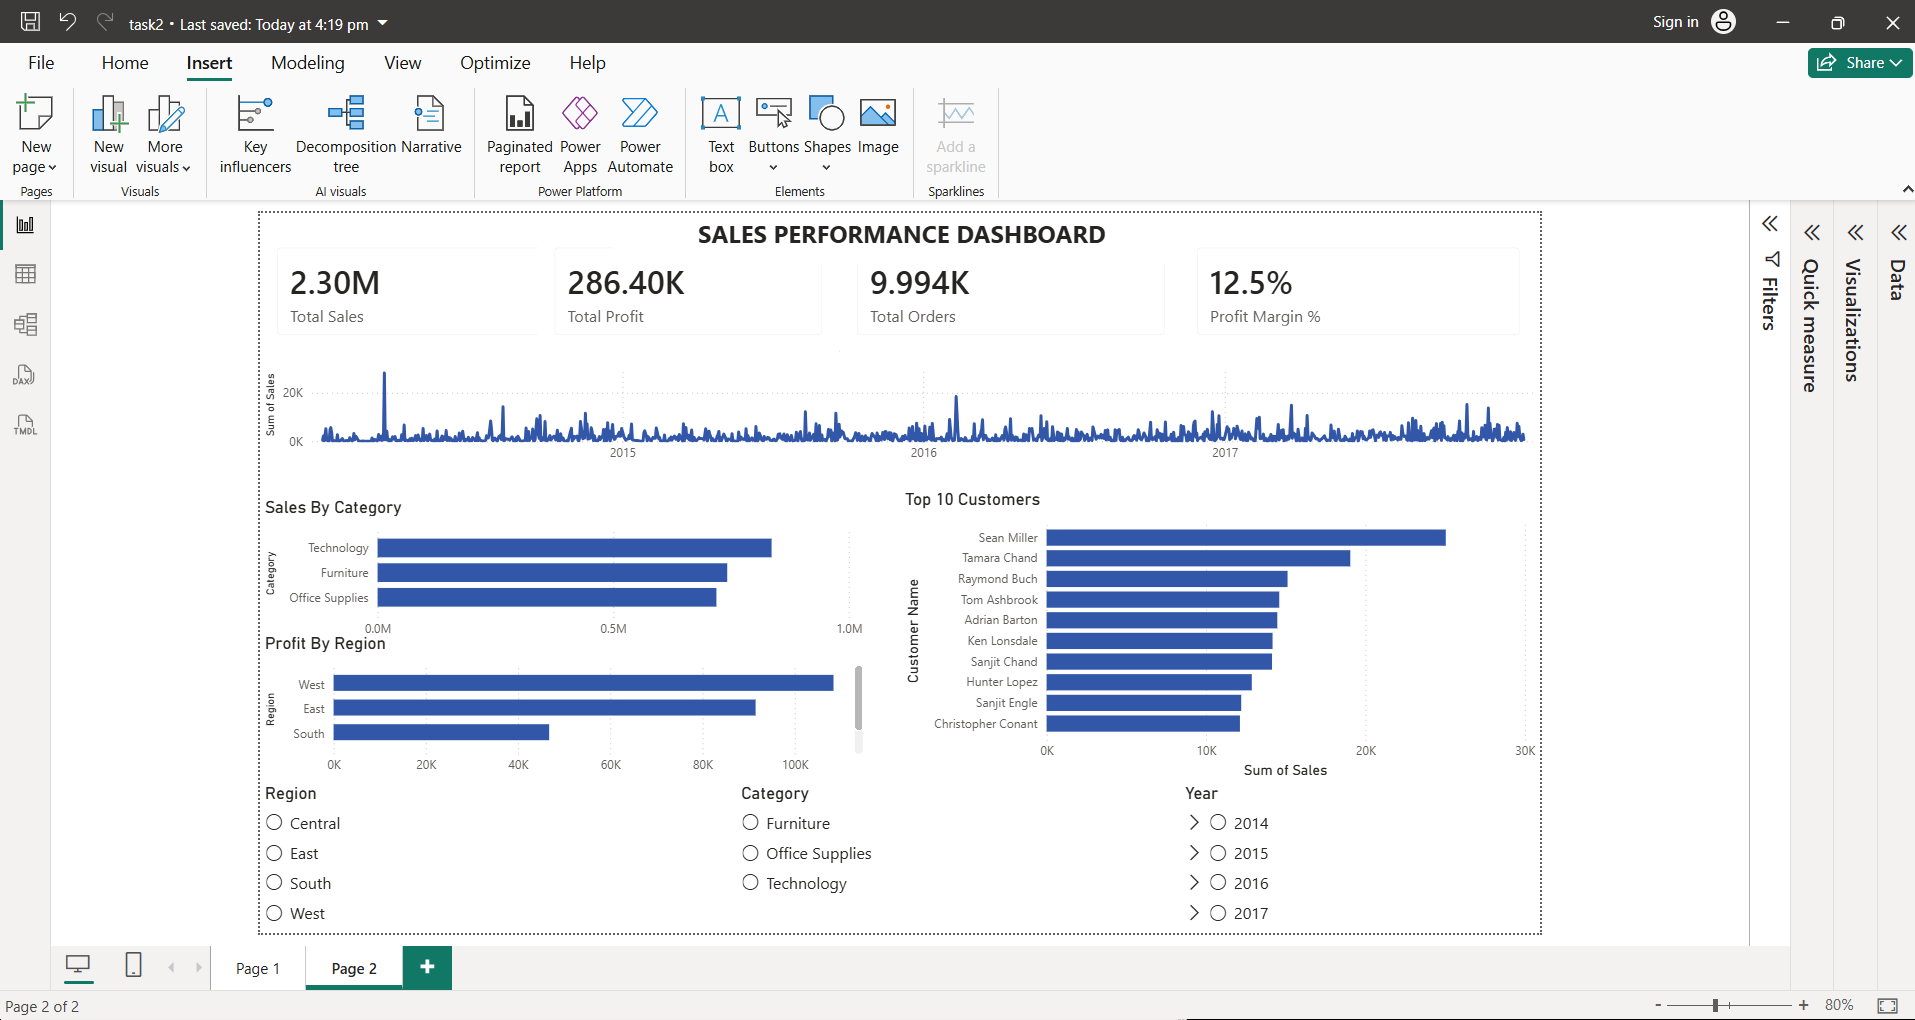

Layout of this report page (visuals, bound fields, positions):
{"tool":"powerbi","page":{"name":"Page 2","canvas":[1280,720],"ordinal":1},"visuals":[{"type":"lineChart","title":"Sales Trend Over Time","fields":{"Y":["Sum(Sample - Superstore.Sales)"],"Category":["Sample - Superstore.Order Date Hierarchy.Order Date"]},"box":[0,122,1282,136],"z":1},{"type":"clusteredBarChart","title":"Sales By Category","fields":{"Category":["Sample - Superstore.Category"],"Y":["Sum(Sample - Superstore.Sales)"]},"box":[0,284,608,150],"z":2},{"type":"clusteredBarChart","title":"Profit By Region","fields":{"Category":["Sample - Superstore.Region"],"Y":["Sum(Sample - Superstore.Profit)"]},"box":[0,420,608,150],"z":3},{"type":"clusteredBarChart","title":"Top 10 Customers","fields":{"Category":["Sample - Superstore.Customer Name"],"Y":["Sum(Sample - Superstore.Sales)"]},"box":[640,276,640,294],"z":4},{"type":"listSlicer","fields":{"Values":["Sample - Superstore.Region"]},"box":[0,570,278,150],"z":5},{"type":"listSlicer","fields":{"Values":["Sample - Superstore.Category"]},"box":[476.2,570,330,120],"z":6},{"type":"listSlicer","fields":{"Values":["Sample - Superstore.Order Date.Variation.Date Hierarchy.Year","Sample - Superstore.Order Date.Variation.Date Hierarchy.Month","Sample - Superstore.Order Date.Variation.Date Hierarchy.Day"]},"box":[920,570,360,150],"z":7},{"type":"cardVisual","fields":{"Data":["Sum(Sample - Superstore.Sales)"]},"box":[0,17.5,303.8,122.5],"z":8},{"type":"cardVisual","fields":{"Data":["Sum(Sample - Superstore.Profit)"]},"box":[277.5,17.5,302.5,122.5],"z":9},{"type":"cardVisual","fields":{"Data":["CountNonNull(Sample - Superstore.Order ID)"]},"box":[580,17.5,342.5,122.5],"z":10},{"type":"cardVisual","fields":{"Data":["Sample - Superstore.Profit Margin %"]},"box":[920,17.5,357.5,122.5],"z":11},{"type":"textbox","box":[353.8,0,576.2,51.2],"z":12}]}

Visuals, with their boxes on the page's 1280x720 design canvas (x1, y1, x2, y2). These are canvas units, not pixel positions in the 1915x1020 screenshot, which may show the page scaled, cropped or inside an application window:
"Sales Trend Over Time" lineChart: <region>0, 122, 1282, 258</region>
"Sales By Category" clusteredBarChart: <region>0, 284, 608, 434</region>
"Profit By Region" clusteredBarChart: <region>0, 420, 608, 570</region>
"Top 10 Customers" clusteredBarChart: <region>640, 276, 1280, 570</region>
listSlicer - Sample - Superstore.Region: <region>0, 570, 278, 720</region>
listSlicer - Sample - Superstore.Category: <region>476, 570, 806, 690</region>
listSlicer - Sample - Superstore.Order Date.Variation.Date Hierarchy.Year x Sample - Superstore.Order Date.Variation.Date Hierarchy.Month: <region>920, 570, 1280, 720</region>
cardVisual - Sum(Sample - Superstore.Sales): <region>0, 18, 304, 140</region>
cardVisual - Sum(Sample - Superstore.Profit): <region>278, 18, 580, 140</region>
cardVisual - CountNonNull(Sample - Superstore.Order ID): <region>580, 18, 922, 140</region>
cardVisual - Sample - Superstore.Profit Margin %: <region>920, 18, 1278, 140</region>
textbox: <region>354, 0, 930, 51</region>
